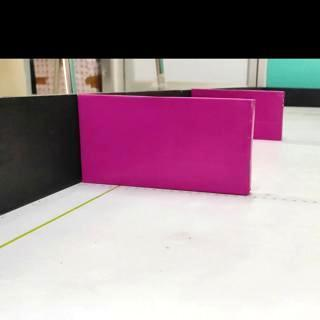xparking: (80, 94, 252, 194), (258, 90, 282, 140)
